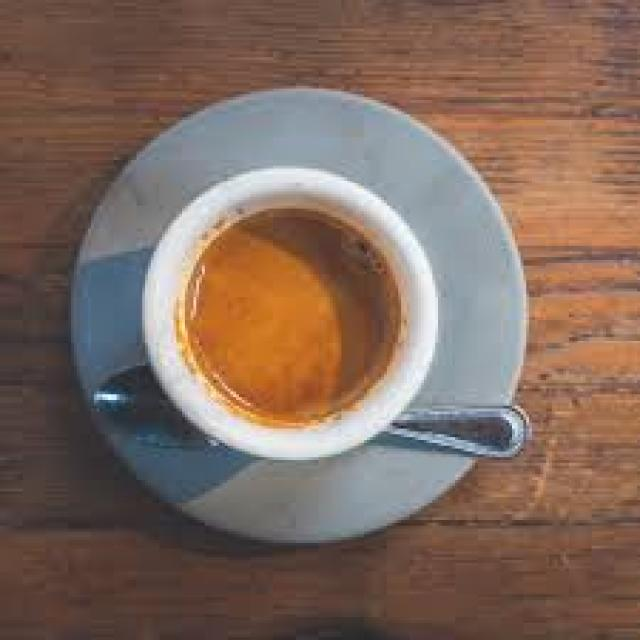PaperCardboard: (185, 211, 399, 424)
